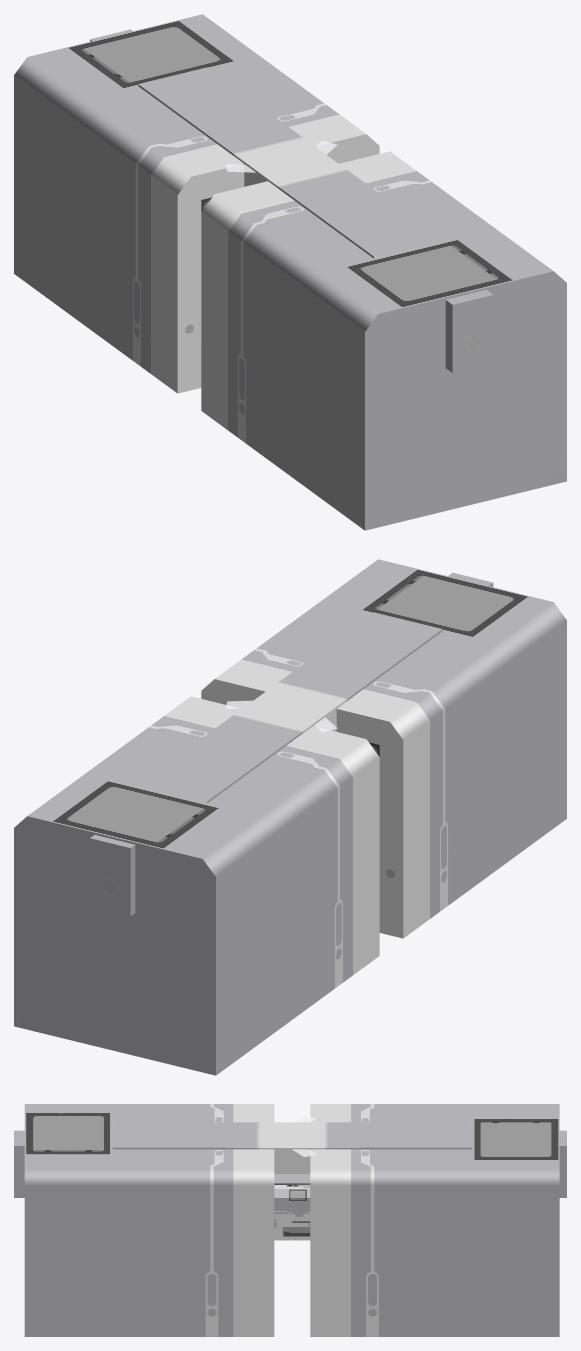
File: sorter-mk4.glb
3 renders of one model, top to bottom at view 1: azimuth 30°, elevation 25°; view 2: azimuth 150°, elevation 25°; view 3: azimuth 270°, elevation 25°, orthographic. The views are drawn at different scales.
Visible parts, largest first — view 1: BRail, ARail, BCap; view 2: ARail, BRail, ACap; view 3: BRail, ARail, grabberLoaded, BCap, ACap, grabber.
Boxes of the visible parts, bbox=[...] form: BRail: bbox=[201, 151, 566, 530]; ARail: bbox=[14, 14, 379, 393]; BCap: bbox=[445, 289, 493, 372]; ARail: bbox=[14, 696, 379, 1075]; BRail: bbox=[201, 559, 566, 938]; ACap: bbox=[90, 834, 135, 916]; BRail: bbox=[24, 1104, 297, 1336]; ARail: bbox=[287, 1104, 559, 1336]; grabberLoaded: bbox=[274, 1185, 310, 1240]; BCap: bbox=[14, 1130, 24, 1197]; ACap: bbox=[559, 1130, 566, 1197]; grabber: bbox=[274, 1174, 310, 1184].
Size of what is drawn, in the model's own units: 0.99 by 1.01 by 3.08.
2 materials, 2 textured.
